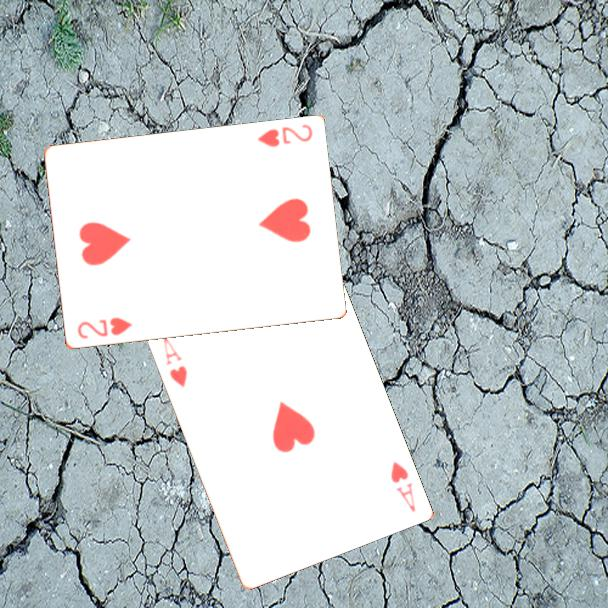h01: (158, 332, 190, 390), (387, 457, 418, 515)
h02: (253, 121, 315, 150), (74, 314, 135, 342)
